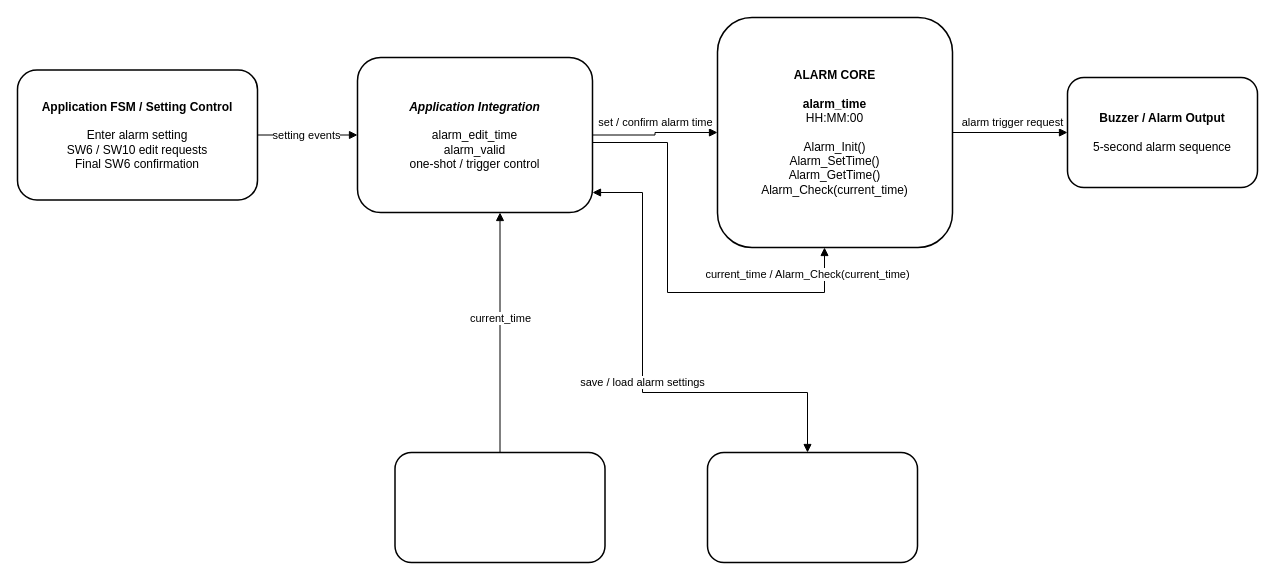
The diagram is 1276 pixels wide and 581 high, and some of its shapes have lost their labels. Each missing label, with the box of its shape:
Clock Core Clock_GetTime() returns current_time: (394, 451, 605, 563)
EEPROM / Persistence alarm hour alarm minute: (706, 451, 918, 563)
